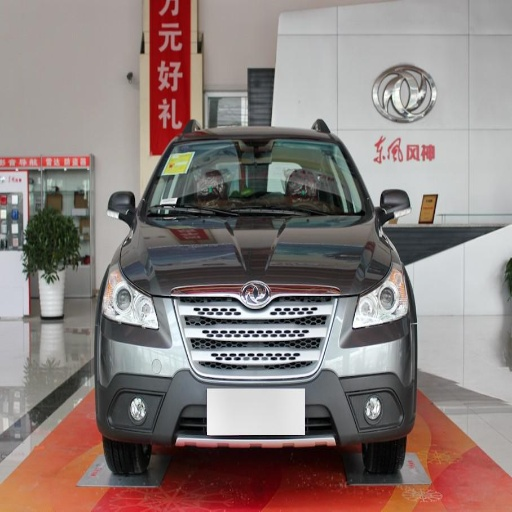front_bumper: (99, 280, 412, 453)
front_right_light: (102, 263, 161, 329)
hood: (124, 216, 388, 308)
trunk: (412, 28, 455, 93)
